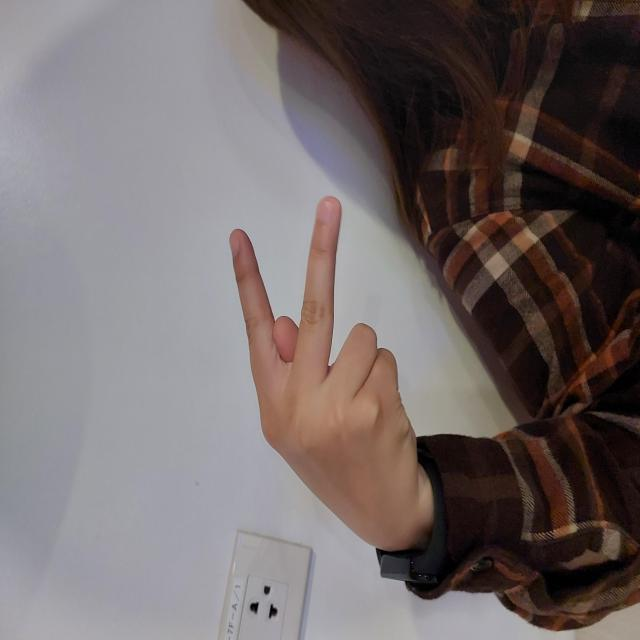K: (91, 227, 450, 427)
